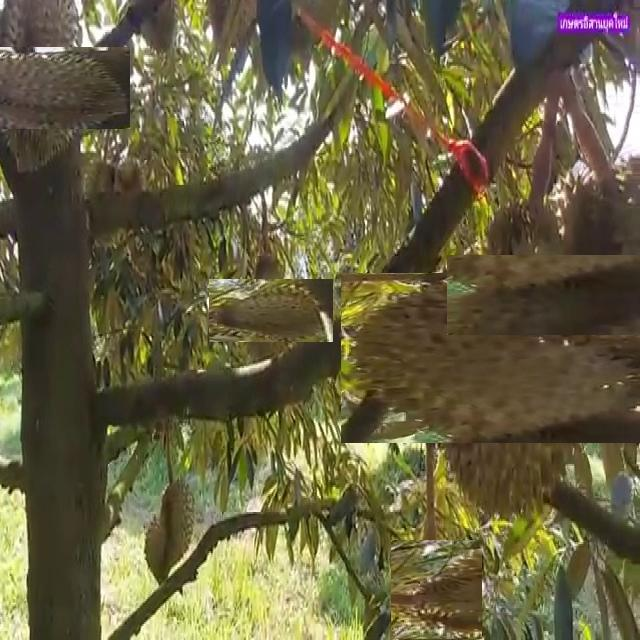durian: (383, 230, 639, 486), (501, 199, 640, 390), (0, 23, 107, 152), (387, 543, 486, 640), (224, 263, 318, 357), (142, 475, 196, 592)
